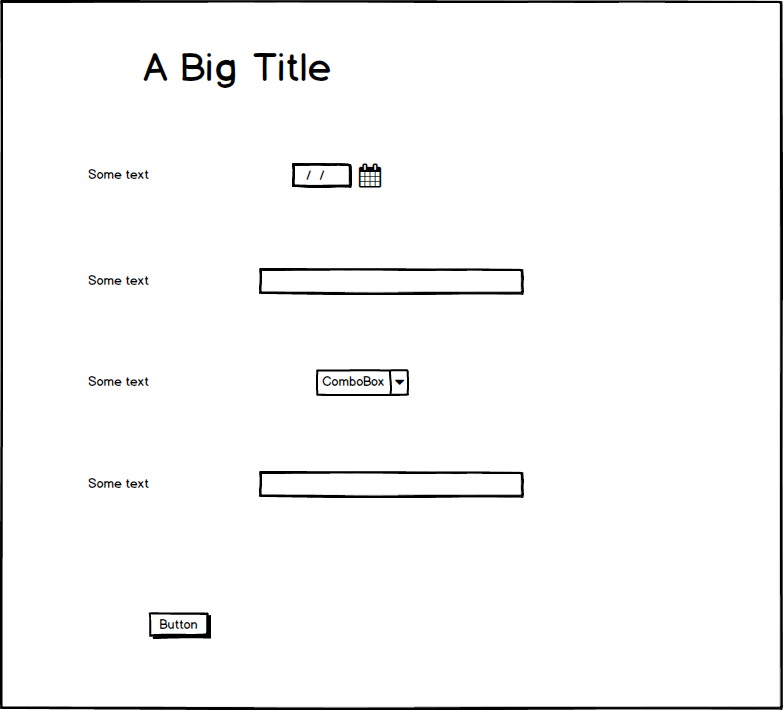button: (145, 604, 216, 644)
date_picker: (285, 158, 391, 194)
h1: (135, 39, 336, 93)
input: (254, 261, 531, 300), (252, 465, 532, 502)
label: (82, 268, 158, 297), (80, 470, 154, 497), (83, 367, 154, 394), (79, 162, 155, 187)
select_box: (310, 367, 413, 400)
